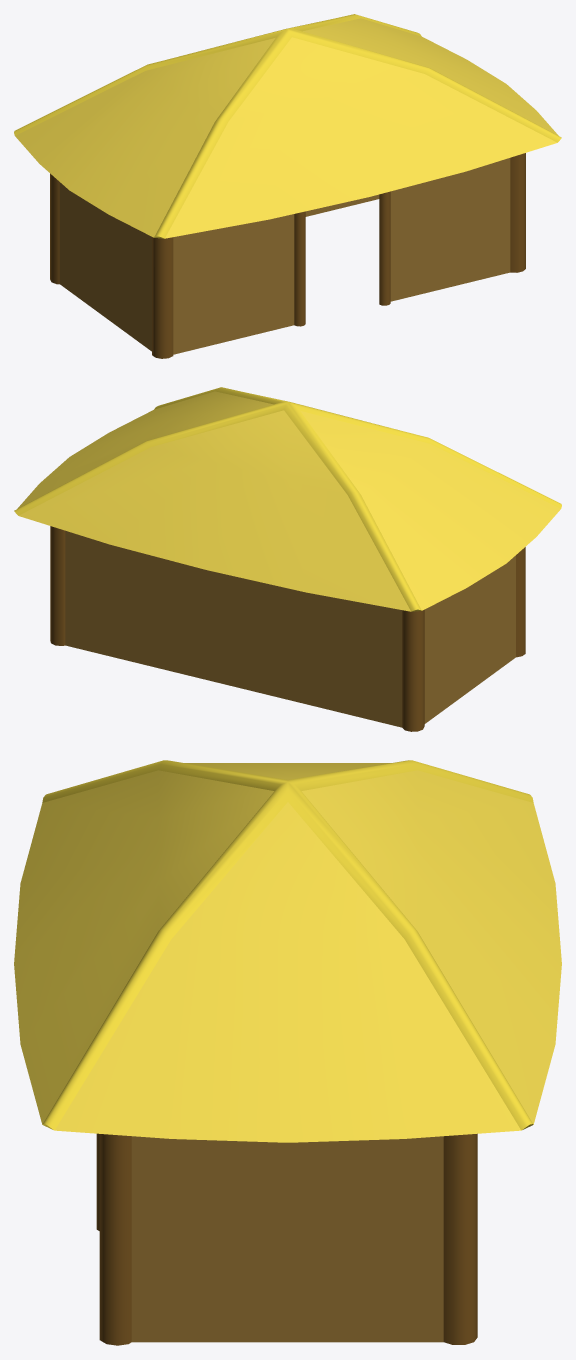
Rendered from Village_Hut.fbx.
The picture shows the model from 3 angles, top to bottom: view 1: azimuth 30°, elevation 25°; view 2: azimuth 150°, elevation 25°; view 3: azimuth 270°, elevation 25°; orthographic projection. The views are drawn at different scales.
Visible parts, largest first — view 1: polySurface6; view 2: polySurface6; view 3: polySurface6.
Boxes of the visible parts, x1,y1,x2,y2 form: polySurface6: [14, 14, 561, 358]; polySurface6: [14, 387, 561, 731]; polySurface6: [14, 760, 561, 1345].
Size of the model in its own units: 82.24 by 44.1 by 53.23.
Materials: 2 (1 with a texture image).
